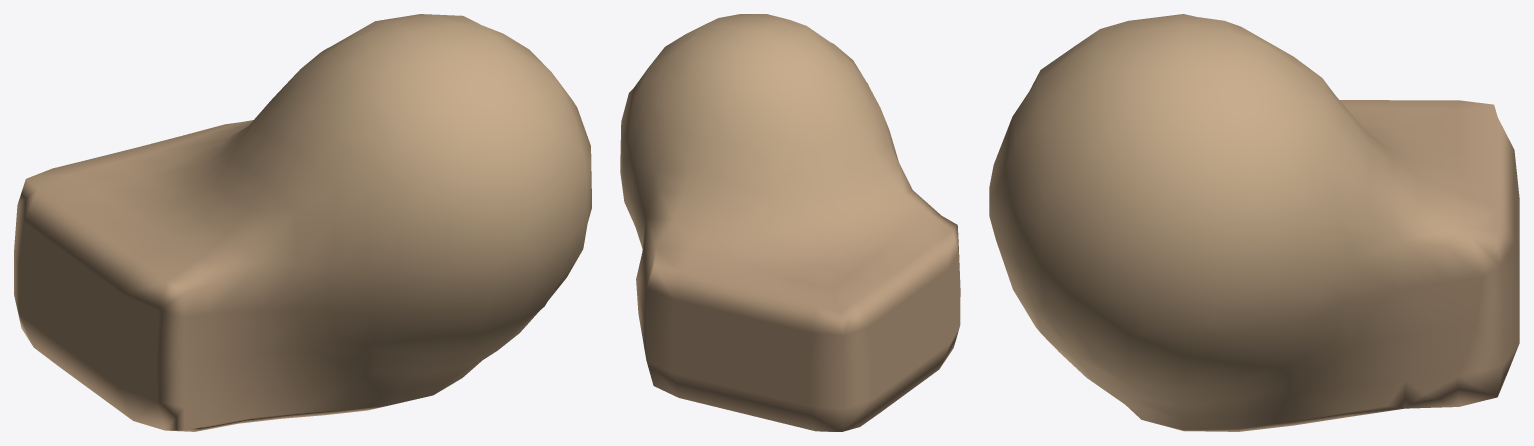
File: 44_quads_400.glb
3 renders of one model, left to right at view 1: azimuth 30°, elevation 25°; view 2: azimuth 150°, elevation 25°; view 3: azimuth 270°, elevation 25°, orthographic. The views are drawn at different scales.
Bounding box in the file's own units: 0.7418 × 0.6193 × 0.7257.
